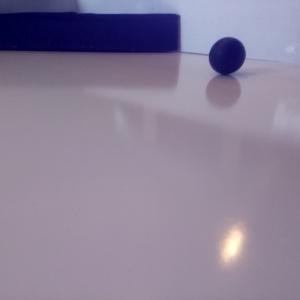zone: (1, 11, 180, 53)
